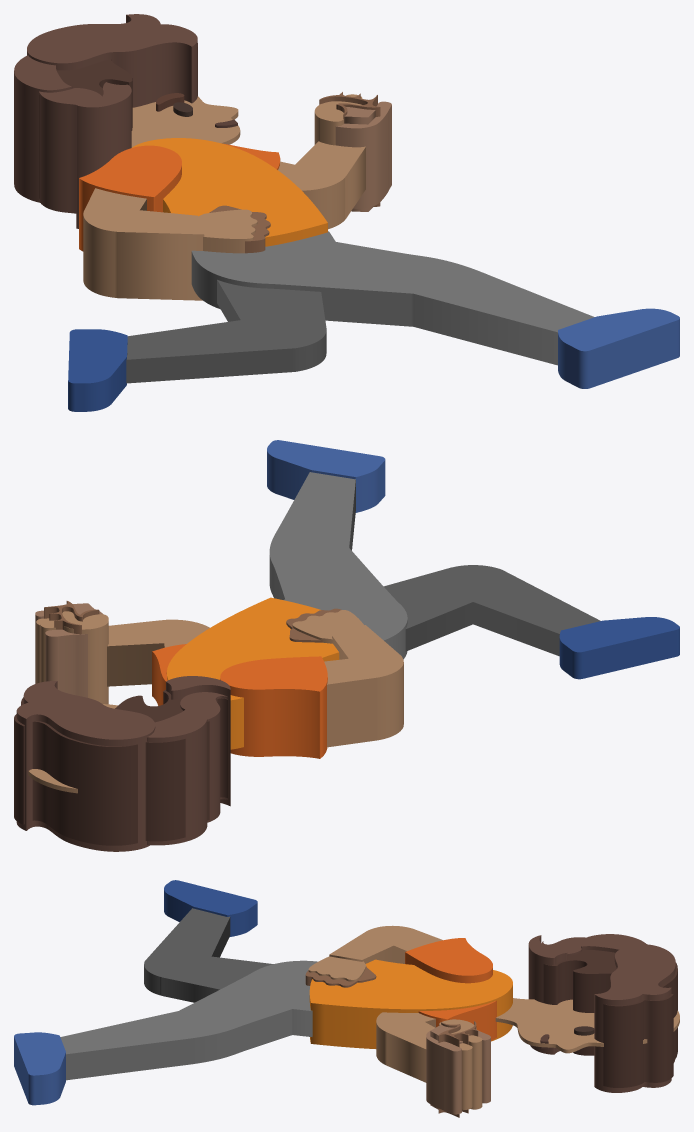
File: emoji_u1f3c3_1f3fd_200d_27a1.glb
3 renders of one model, top to bottom at view 1: azimuth 30°, elevation 25°; view 2: azimuth 150°, elevation 25°; view 3: azimuth 270°, elevation 25°, orthographic. The views are drawn at different scales.
Parts seen in each view (by area): view 1: emoji_u1f3c3_1f3fd_200d_27a1; view 2: emoji_u1f3c3_1f3fd_200d_27a1; view 3: emoji_u1f3c3_1f3fd_200d_27a1.
Part boxes in pixels (box(x1,y1,x2,y2)): emoji_u1f3c3_1f3fd_200d_27a1: box(14, 14, 679, 411); emoji_u1f3c3_1f3fd_200d_27a1: box(14, 440, 679, 851); emoji_u1f3c3_1f3fd_200d_27a1: box(14, 880, 679, 1117).
Bounding box in the file's own units: 0.023 × 0.0052 × 0.0325.
